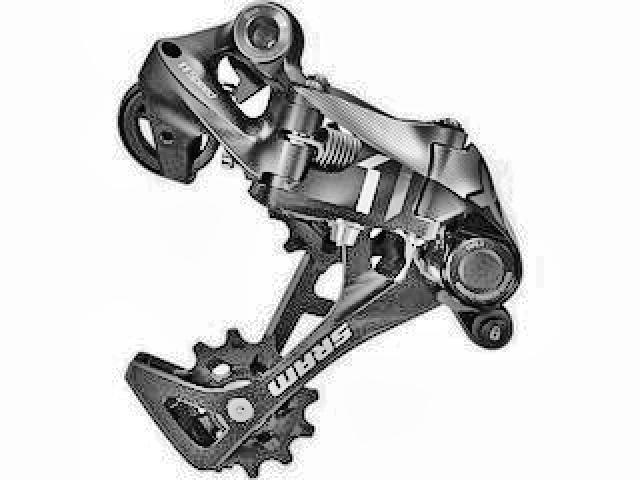rear_derailleur: (115, 1, 528, 478)
